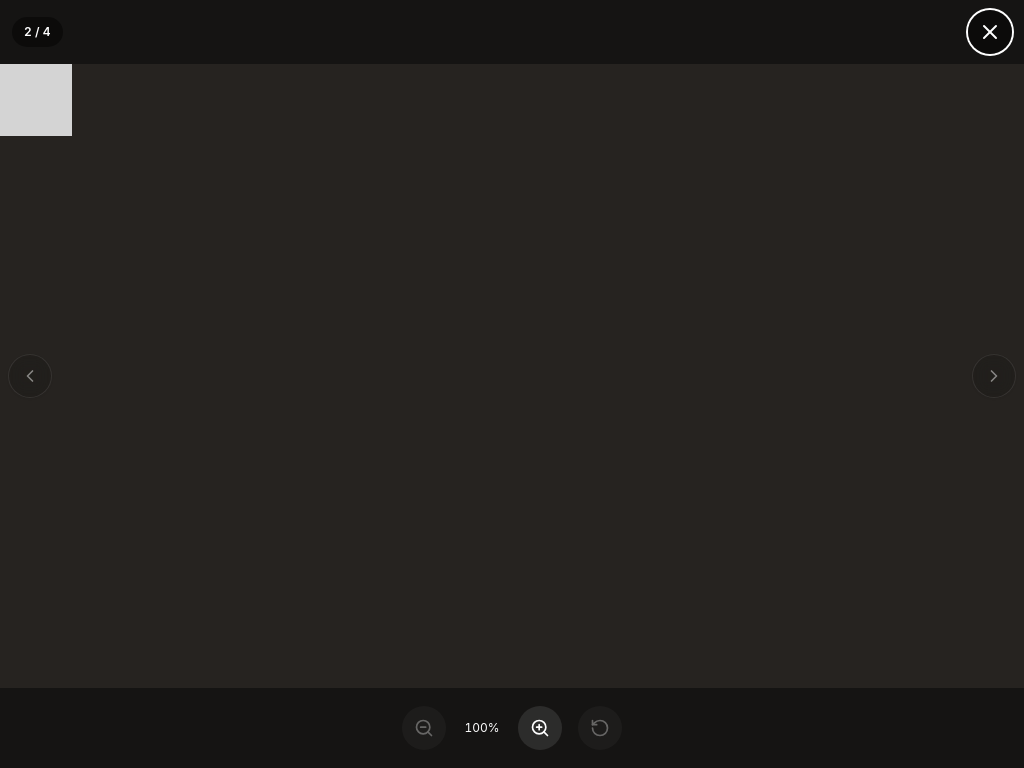
Test case: AlbumScreen › renders the server album list and loads its actual course detail
The width and height of the screenshot is (1024, 768).
Earlier steps of the test are not shown.
(page scrolled)
Check: the text "2 / 4" is shown, box left=12, top=17, right=62, bottom=47
What coordinates should you click on to do the following:
click the button named "사진 확대"
I would click on:
 (540, 728)
Its box is left=518, top=706, right=562, bottom=750.
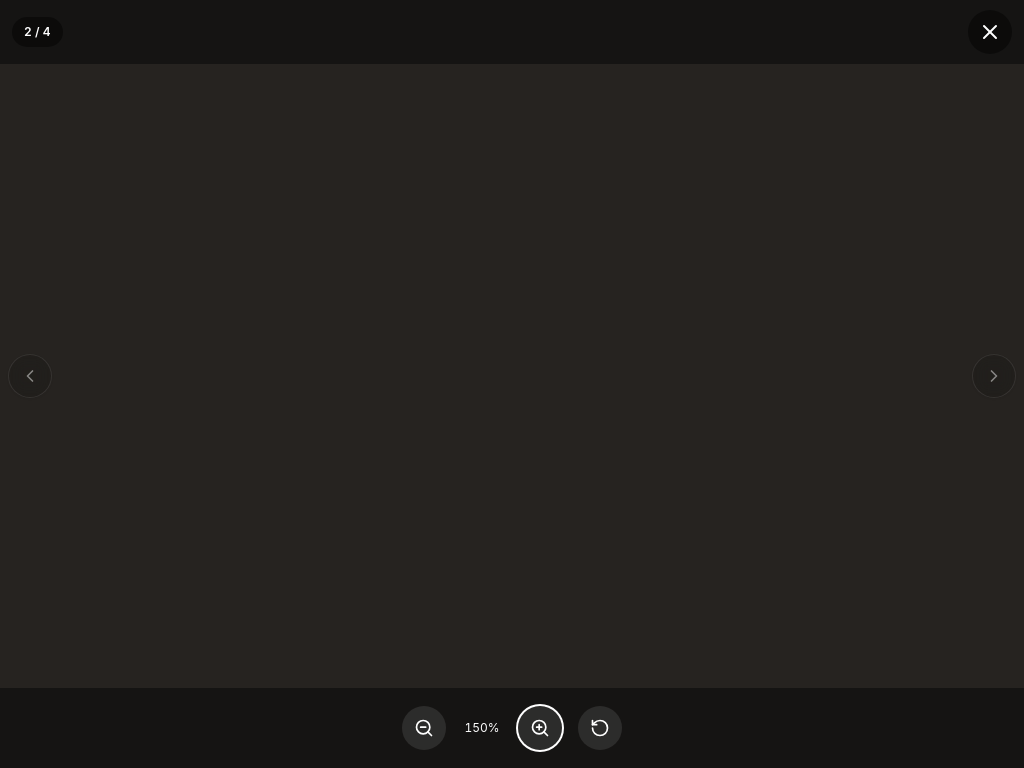
Check: the text "150%" is shown, box left=464, top=720, right=500, bottom=735
What coordinates should you click on to do the following:
click the button named "전체 화면 닫기"
I would click on:
 (990, 32)
Its box is left=968, top=10, right=1012, bottom=54.
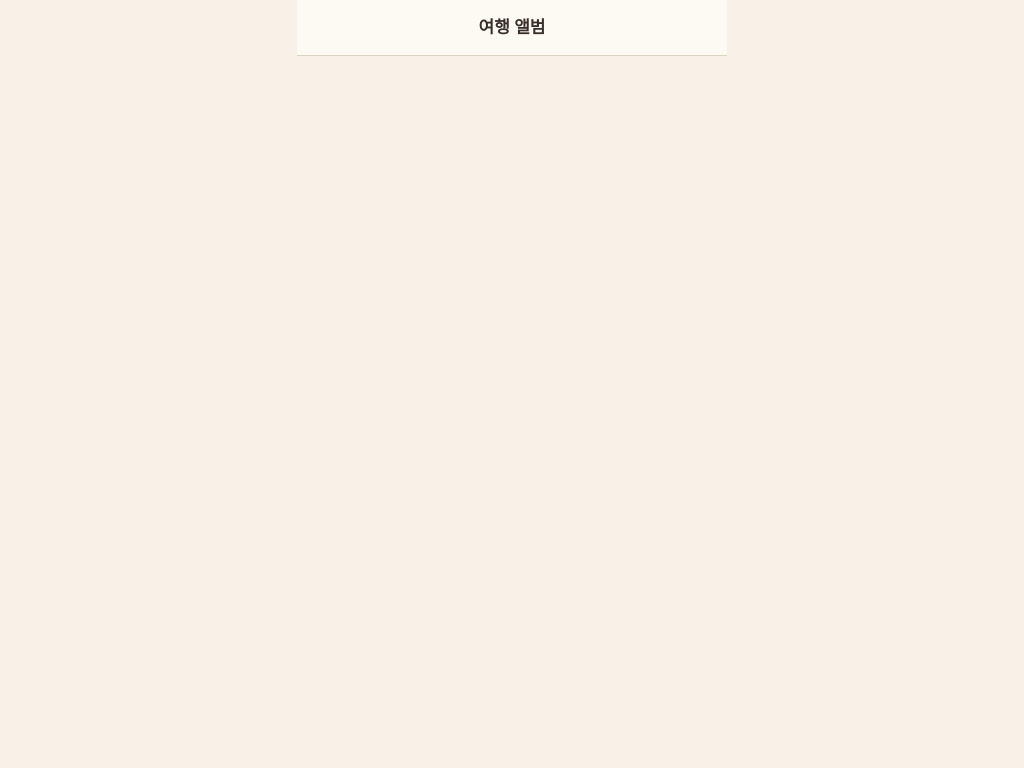
Check: the dialog is gone
